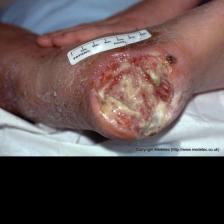Wound: (85, 57, 181, 136)
